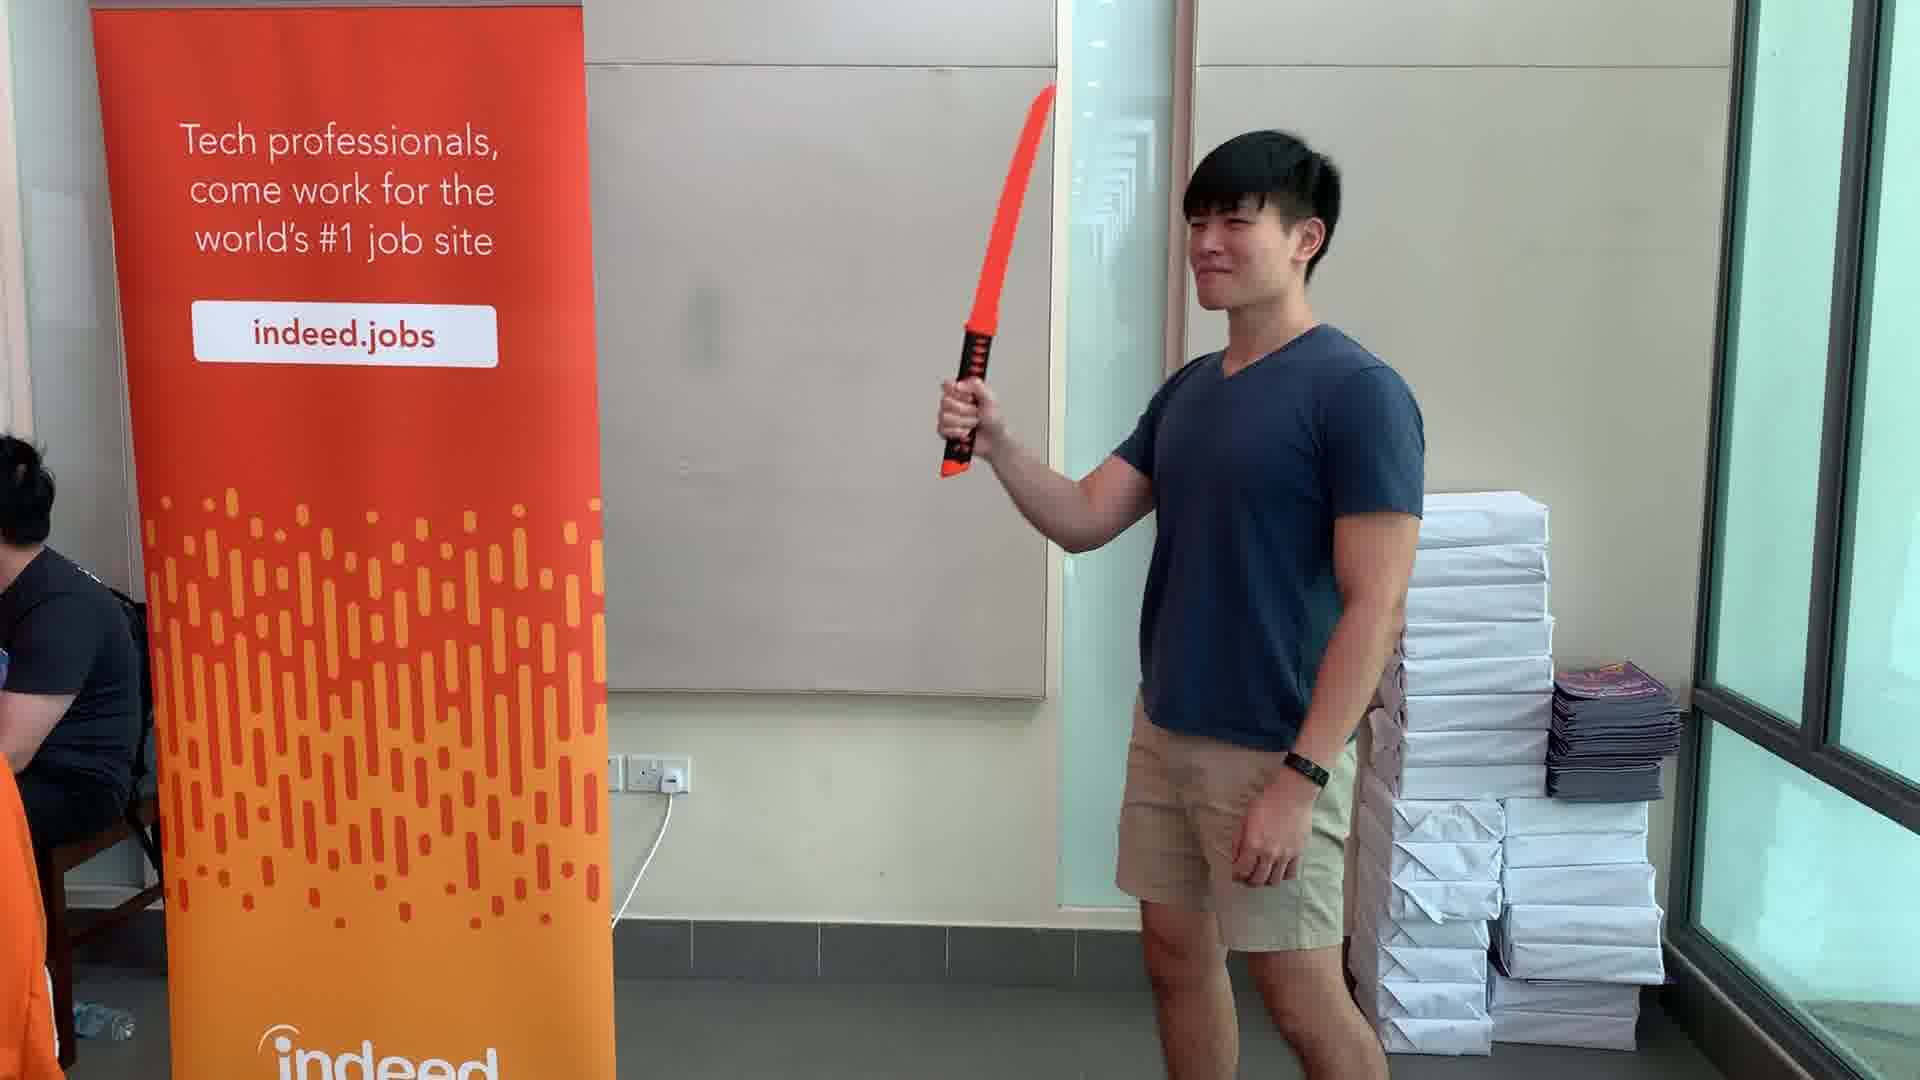knife: (924, 73, 1073, 489)
